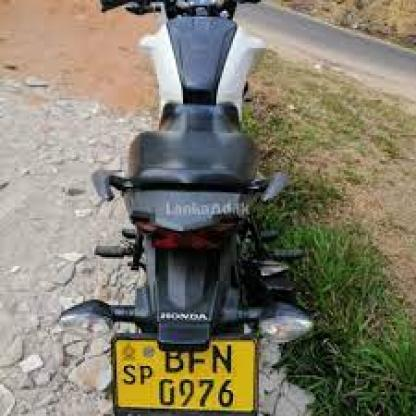bike back: (62, 0, 344, 416)
number plate: (121, 337, 245, 406)
